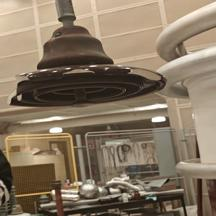insulator: (8, 20, 170, 112)
